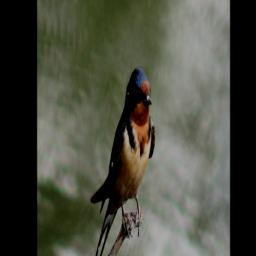Swallow: (93, 66, 157, 256)
